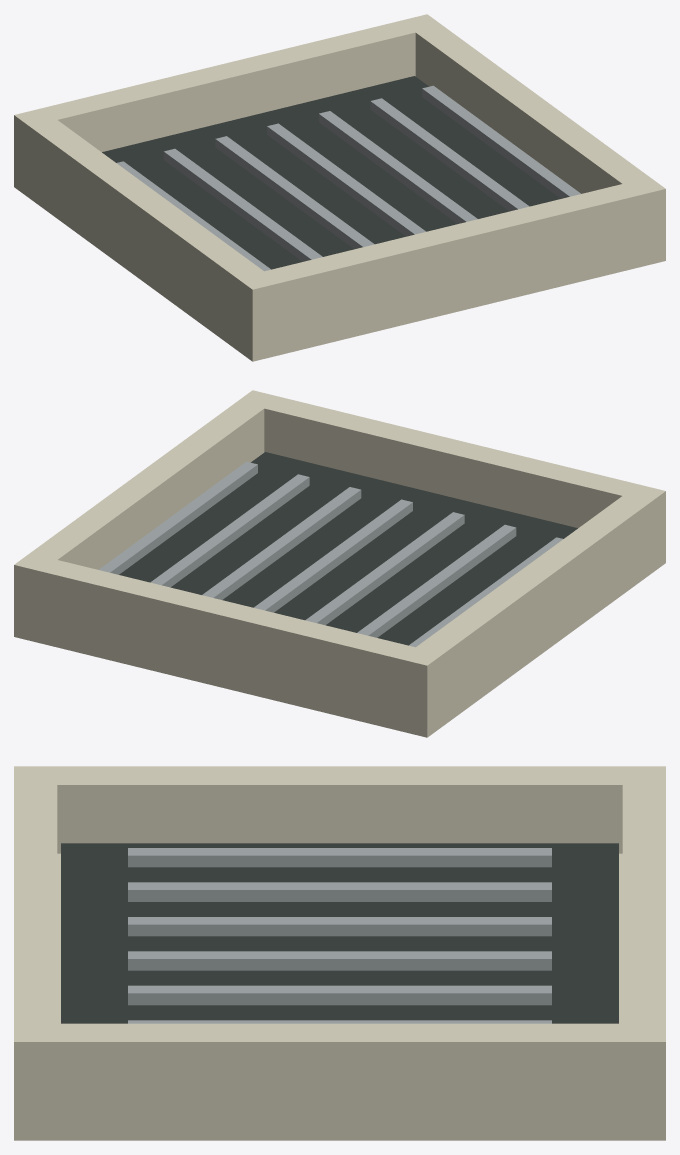
The model's file is bunker-shelter-construction-shower-tray-53c9c02b__23355.glb.
The picture shows the model from 3 angles, top to bottom: view 1: azimuth 30°, elevation 25°; view 2: azimuth 150°, elevation 25°; view 3: azimuth 270°, elevation 25°; orthographic projection. The views are drawn at different scales.
Parts seen in each view (by area): view 1: shower-tray; view 2: shower-tray; view 3: shower-tray.
Boxes of the visible parts, x1,y1,x2,y2 form: shower-tray: (14, 14, 665, 361); shower-tray: (14, 390, 665, 737); shower-tray: (14, 766, 665, 1140).
Bounding box in the file's own units: 0.9 × 0.15 × 0.9.
